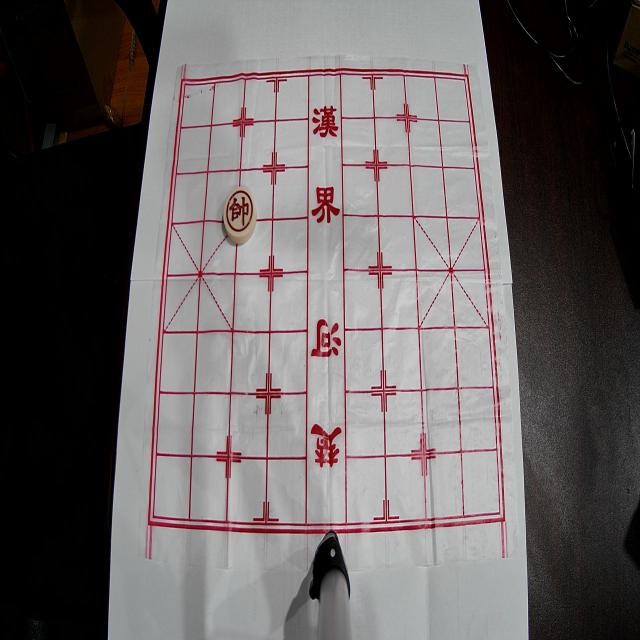red-general: (224, 187, 256, 244)
